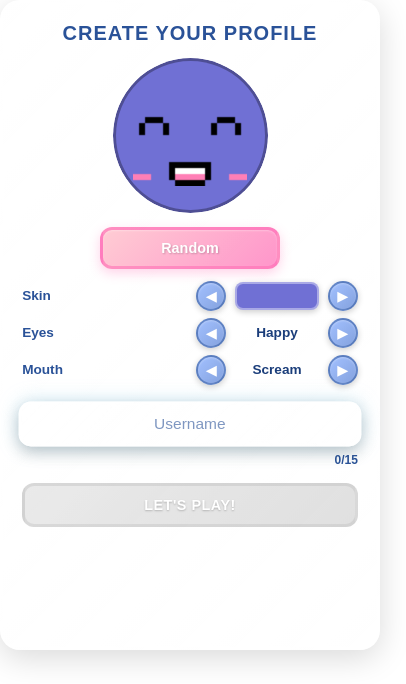
Test: ProfileMenu Component › Username Input › should limit username to 15 characters
Step 1. Type "ThisIsAVeryLongUsernameThatExceedsLimit" into the field → (190, 424), box top-left (19, 402), bottom-right (361, 447)
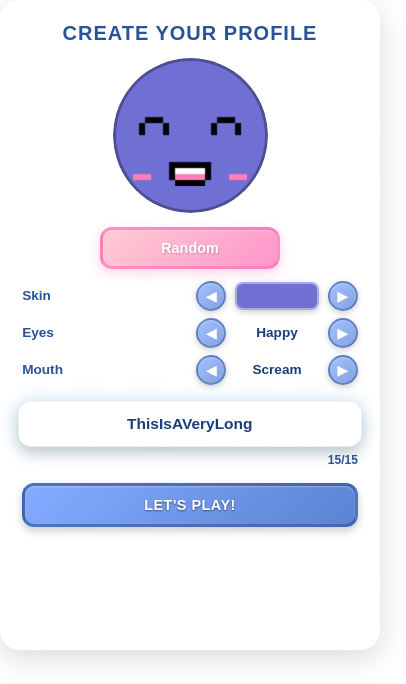
Check: the field holds "ThisIsAVeryLong", box top-left (19, 402), bottom-right (361, 447)
